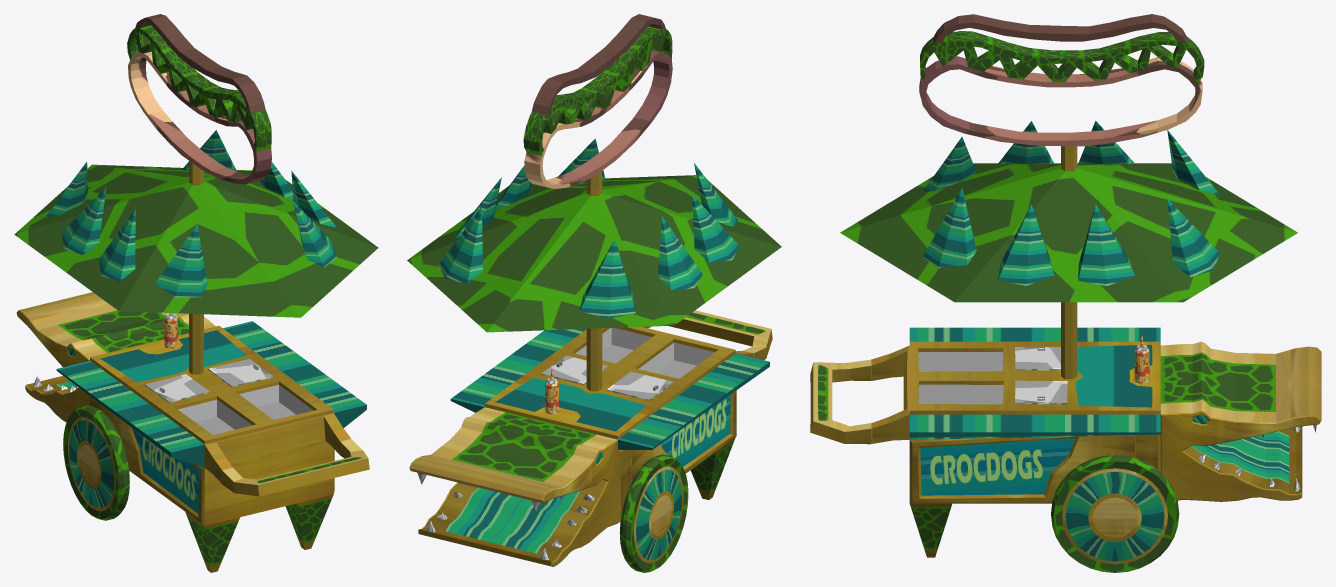
File: Diner_Croc_Kraampje_CroCdogs.fbx
3 views of the same model, side by side, from view 1: azimuth 30°, elevation 25°; view 2: azimuth 150°, elevation 25°; view 3: azimuth 270°, elevation 25° (orthographic). The views are drawn at different scales.
Visible parts, largest first — view 1: Cube.076, Plane.011, Cylinder.088; view 2: Cube.076, Plane.011, Cylinder.088; view 3: Cube.076, Plane.011.
Boxes of the visible parts, x1,y1,x2,y2 form: Cube.076: [14, 130, 378, 572]; Plane.011: [127, 14, 271, 184]; Cylinder.088: [164, 313, 177, 348]; Cube.076: [407, 138, 781, 572]; Plane.011: [523, 14, 672, 188]; Cylinder.088: [545, 369, 558, 414]; Cube.076: [810, 121, 1321, 572]; Plane.011: [919, 14, 1204, 146].
Size of the model in its own units: 206 by 355 by 320.
7 materials, 7 textured.
